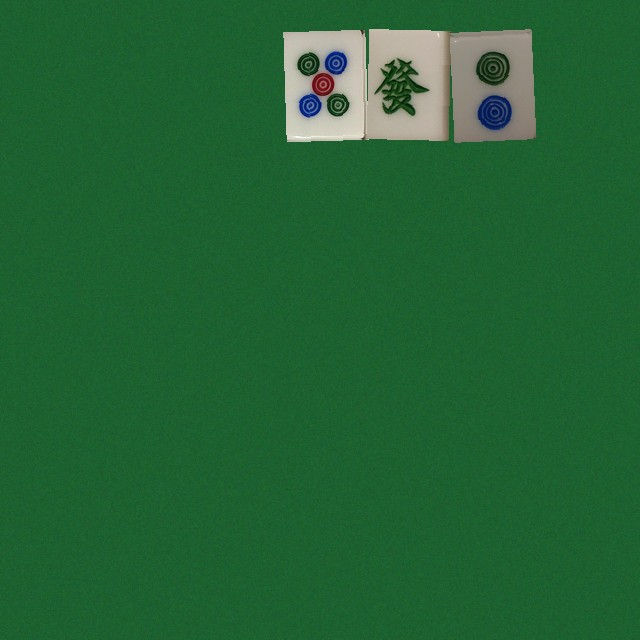tile: (283, 29, 365, 139), (366, 29, 448, 139), (449, 29, 531, 139)
